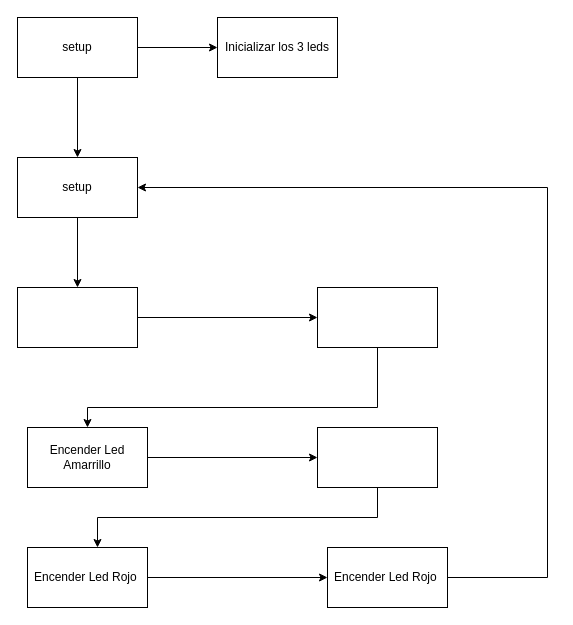
The diagram is 573 pixels wide and 625 high, and some of its shapes have lost their labels. The shapes that lost their labels are listed below. From the top down, each one's centre as x and y in pixels, then its label:
At (x=77, y=317): "Encender Led Verde".
At (x=377, y=317): "Apagar led Verde".
At (x=377, y=457): "Apagar Led Amarillo".
